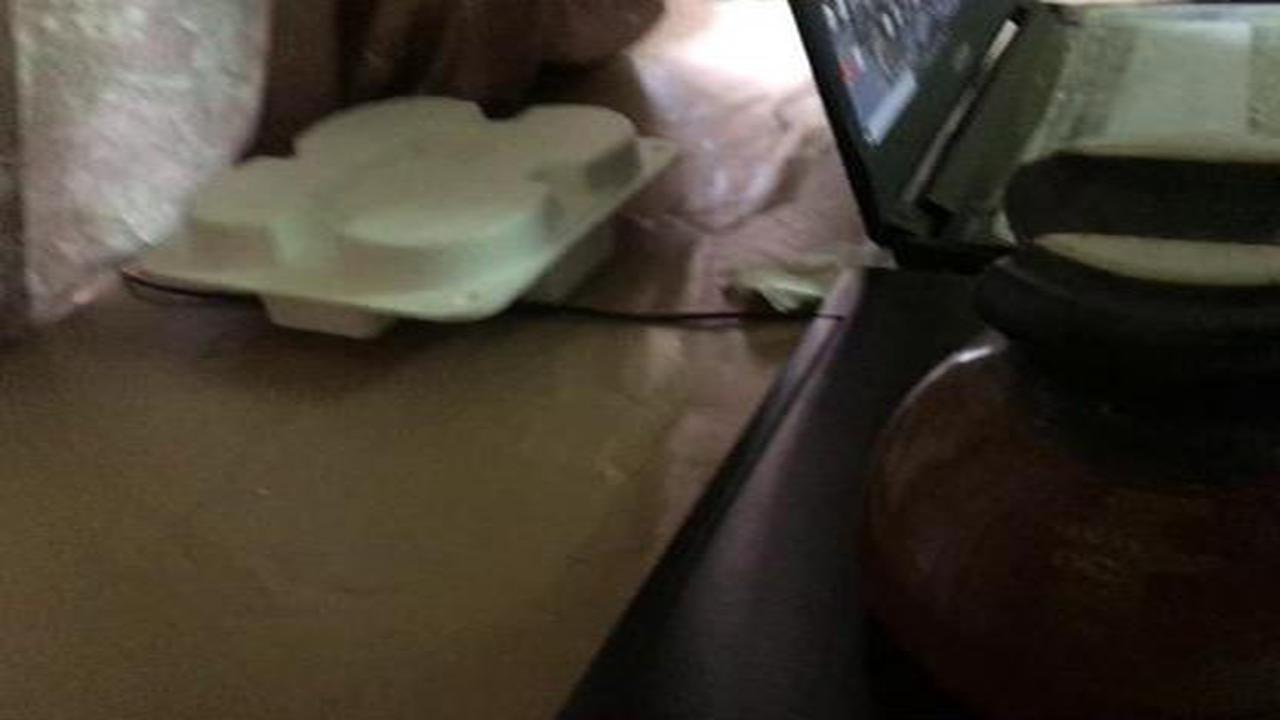insulator_pin: (850, 129, 1280, 717)
